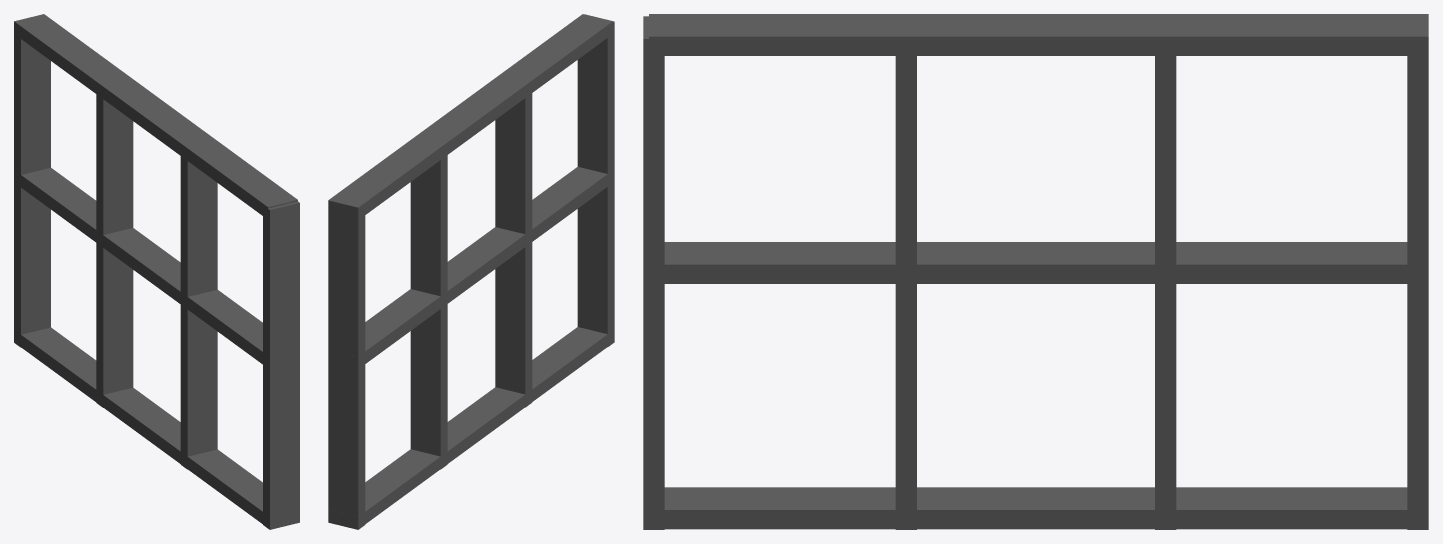
Rendered from window_frame.gltf.
3 views of the same model, side by side, from view 1: azimuth 30°, elevation 25°; view 2: azimuth 150°, elevation 25°; view 3: azimuth 270°, elevation 25° (orthographic). The views are drawn at different scales.
Parts seen in each view (by area): view 1: Window Frame; view 2: Window Frame; view 3: Window Frame.
Part boxes in pixels (left/top/right/bottom): Window Frame: left=14, top=14, right=299, bottom=529; Window Frame: left=328, top=14, right=614, bottom=529; Window Frame: left=643, top=14, right=1428, bottom=529.
Bounding box in the file's own units: 1.39 × 14.17 × 20.43.
1 material, 1 textured.
